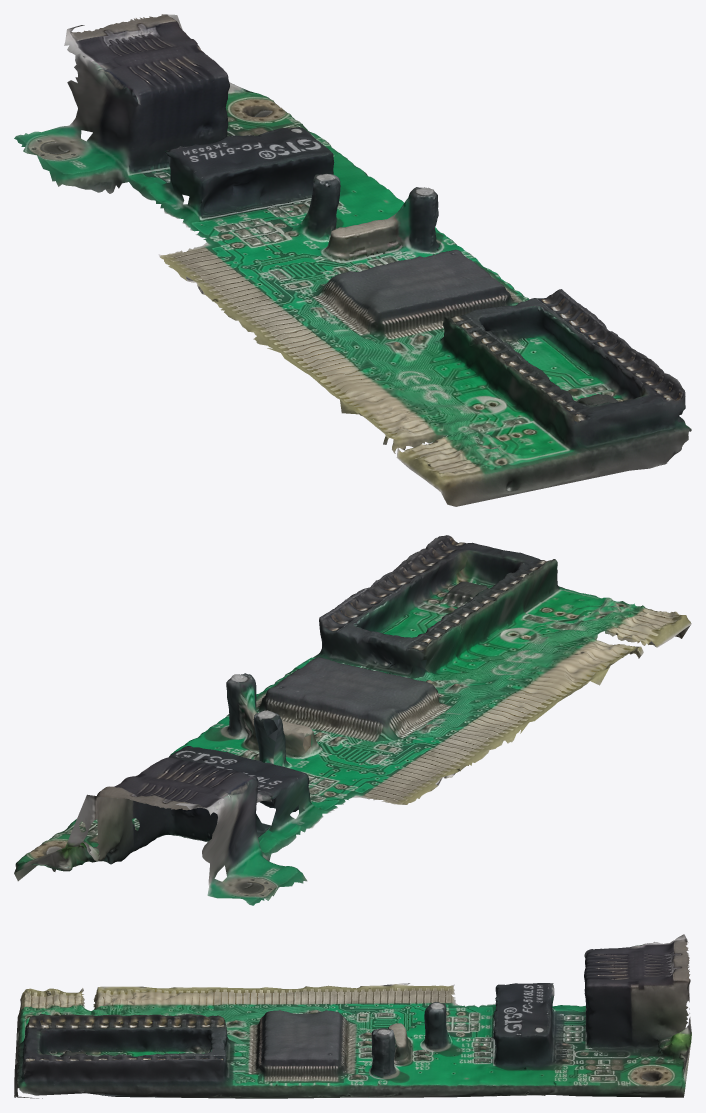
Rendered from Lan(RJ45)v3.fbx.
3 views of the same model, one above another, from view 1: azimuth 30°, elevation 25°; view 2: azimuth 150°, elevation 25°; view 3: azimuth 270°, elevation 25° (orthographic). The views are drawn at different scales.
Parts seen in each view (by area): view 1: Group_Global; view 2: Group_Global; view 3: Group_Global.
Part boxes in pixels (x1,y1,x2,y2): Group_Global: (14,14,691,506); Group_Global: (14,535,691,905); Group_Global: (14,934,691,1098).
Size of the model in its own units: 83.57 by 42.85 by 242.
